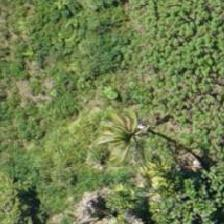coconut_tree: (152, 108, 223, 198)
